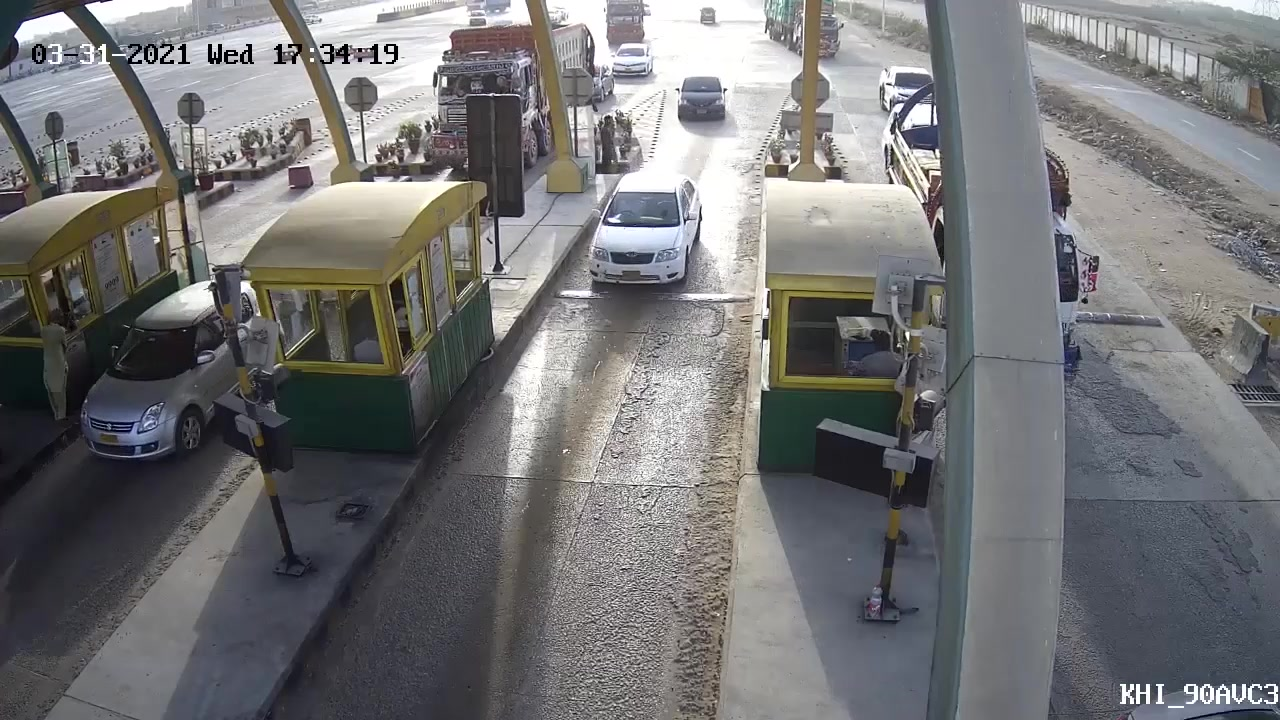F1: (582, 169, 703, 299)
